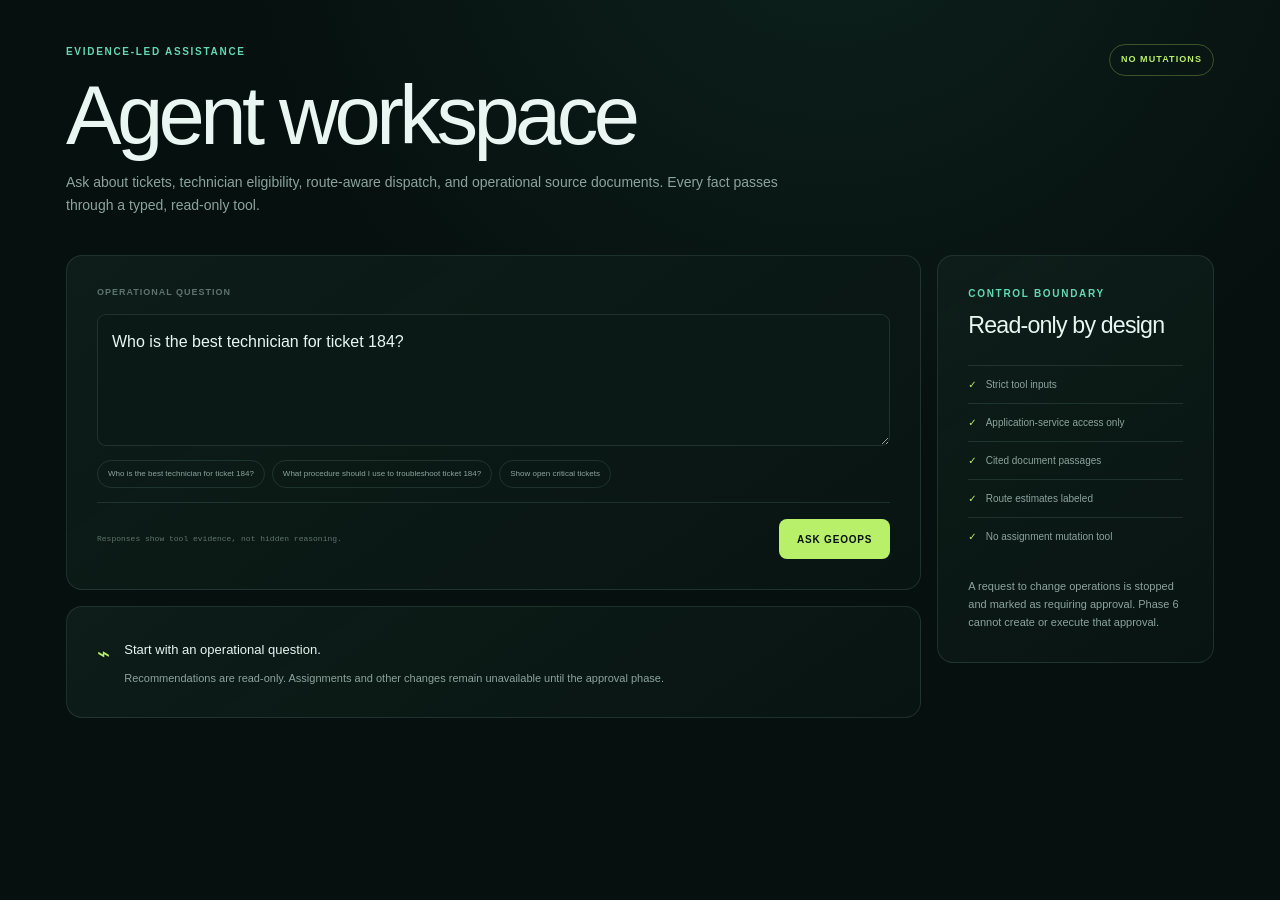
Test: AgentWorkspace › shows the approval boundary without implying execution
This screenshot has width=1280, height=900.
Replace the text in the text box labelled "Operational question" with "Reassign ticket 184 to James Chen" at (494, 380), box x1=97 y1=314 x2=890 y2=446
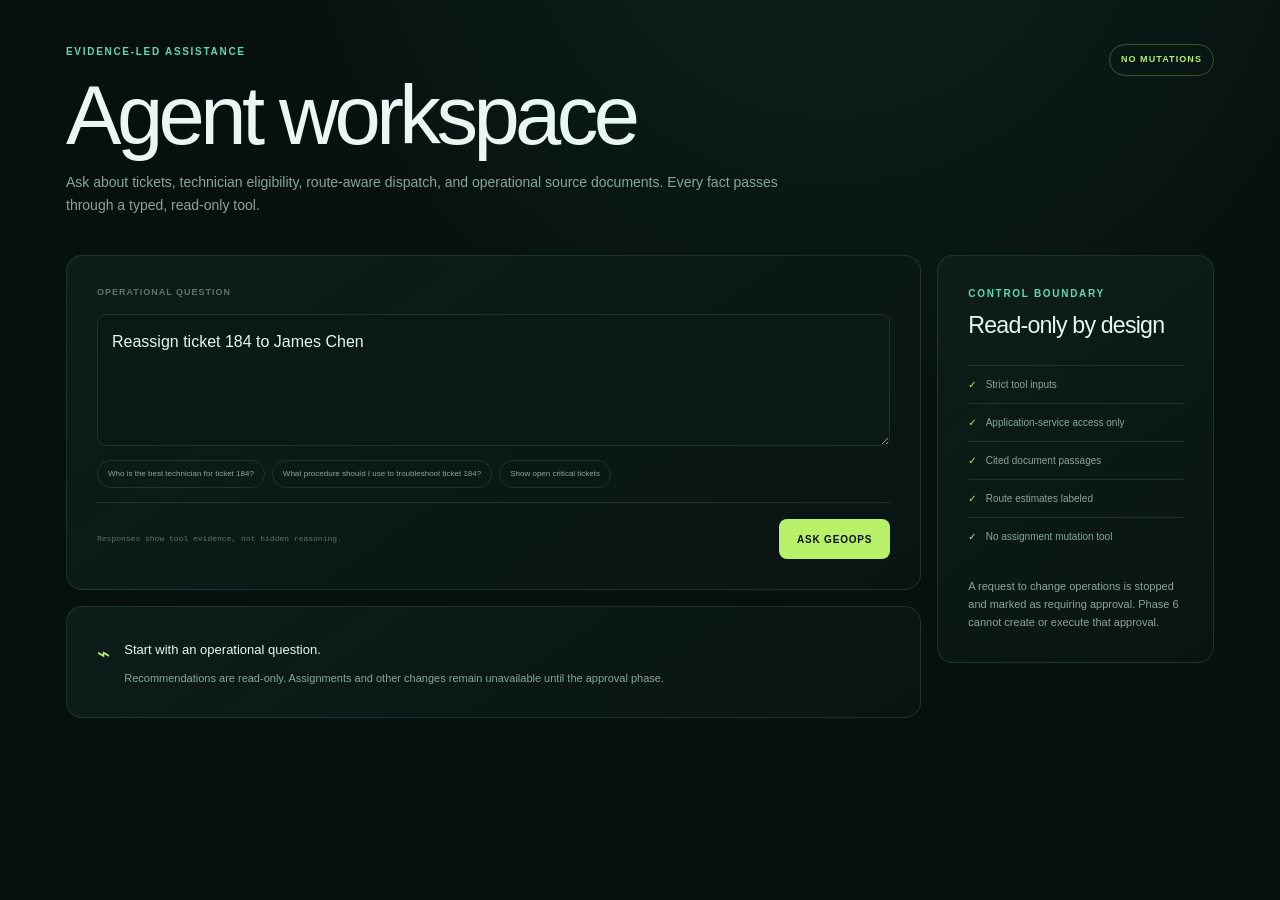
Click the button "Ask GeoOps" at (835, 539), box x1=779 y1=519 x2=890 y2=559
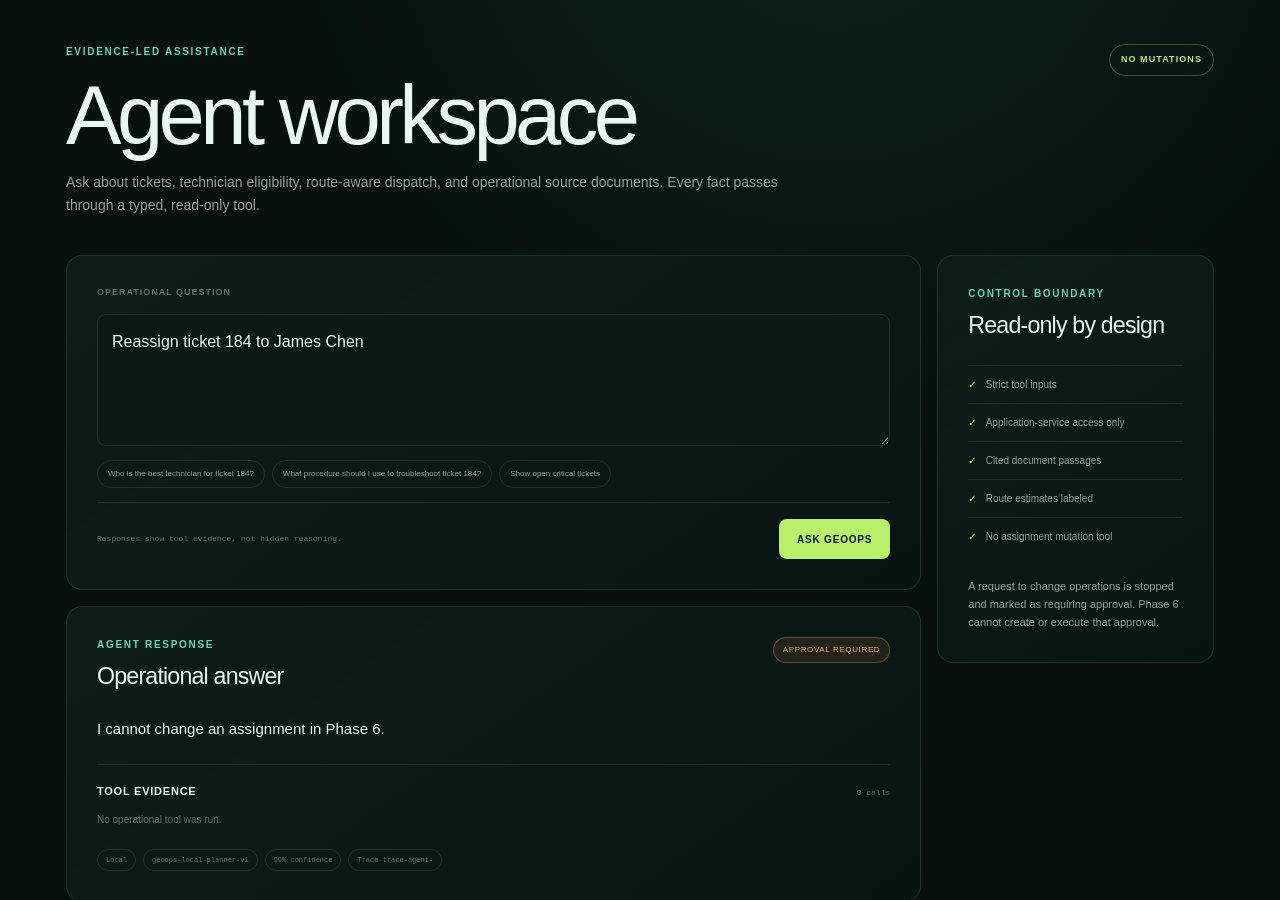
Expected: the text "Approval required" is shown, x1=773 y1=637 x2=890 y2=663
Expected: the text "No operational tool was run." is shown, x1=97 y1=814 x2=222 y2=825
